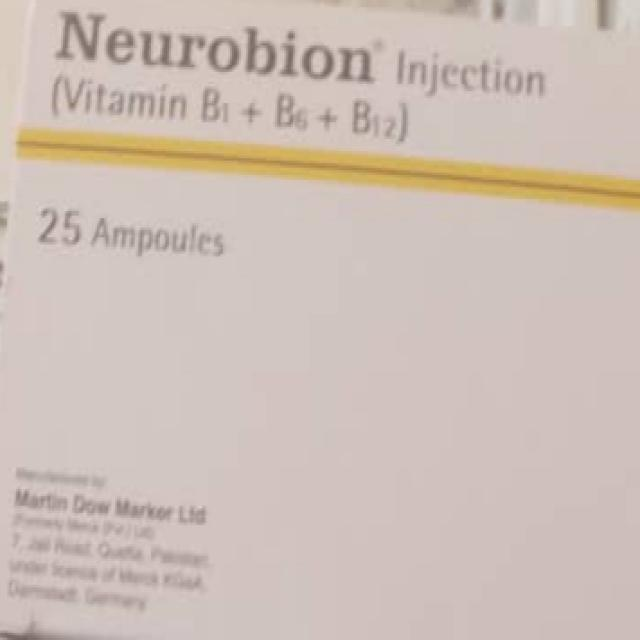drug-name: (51, 10, 376, 86)
